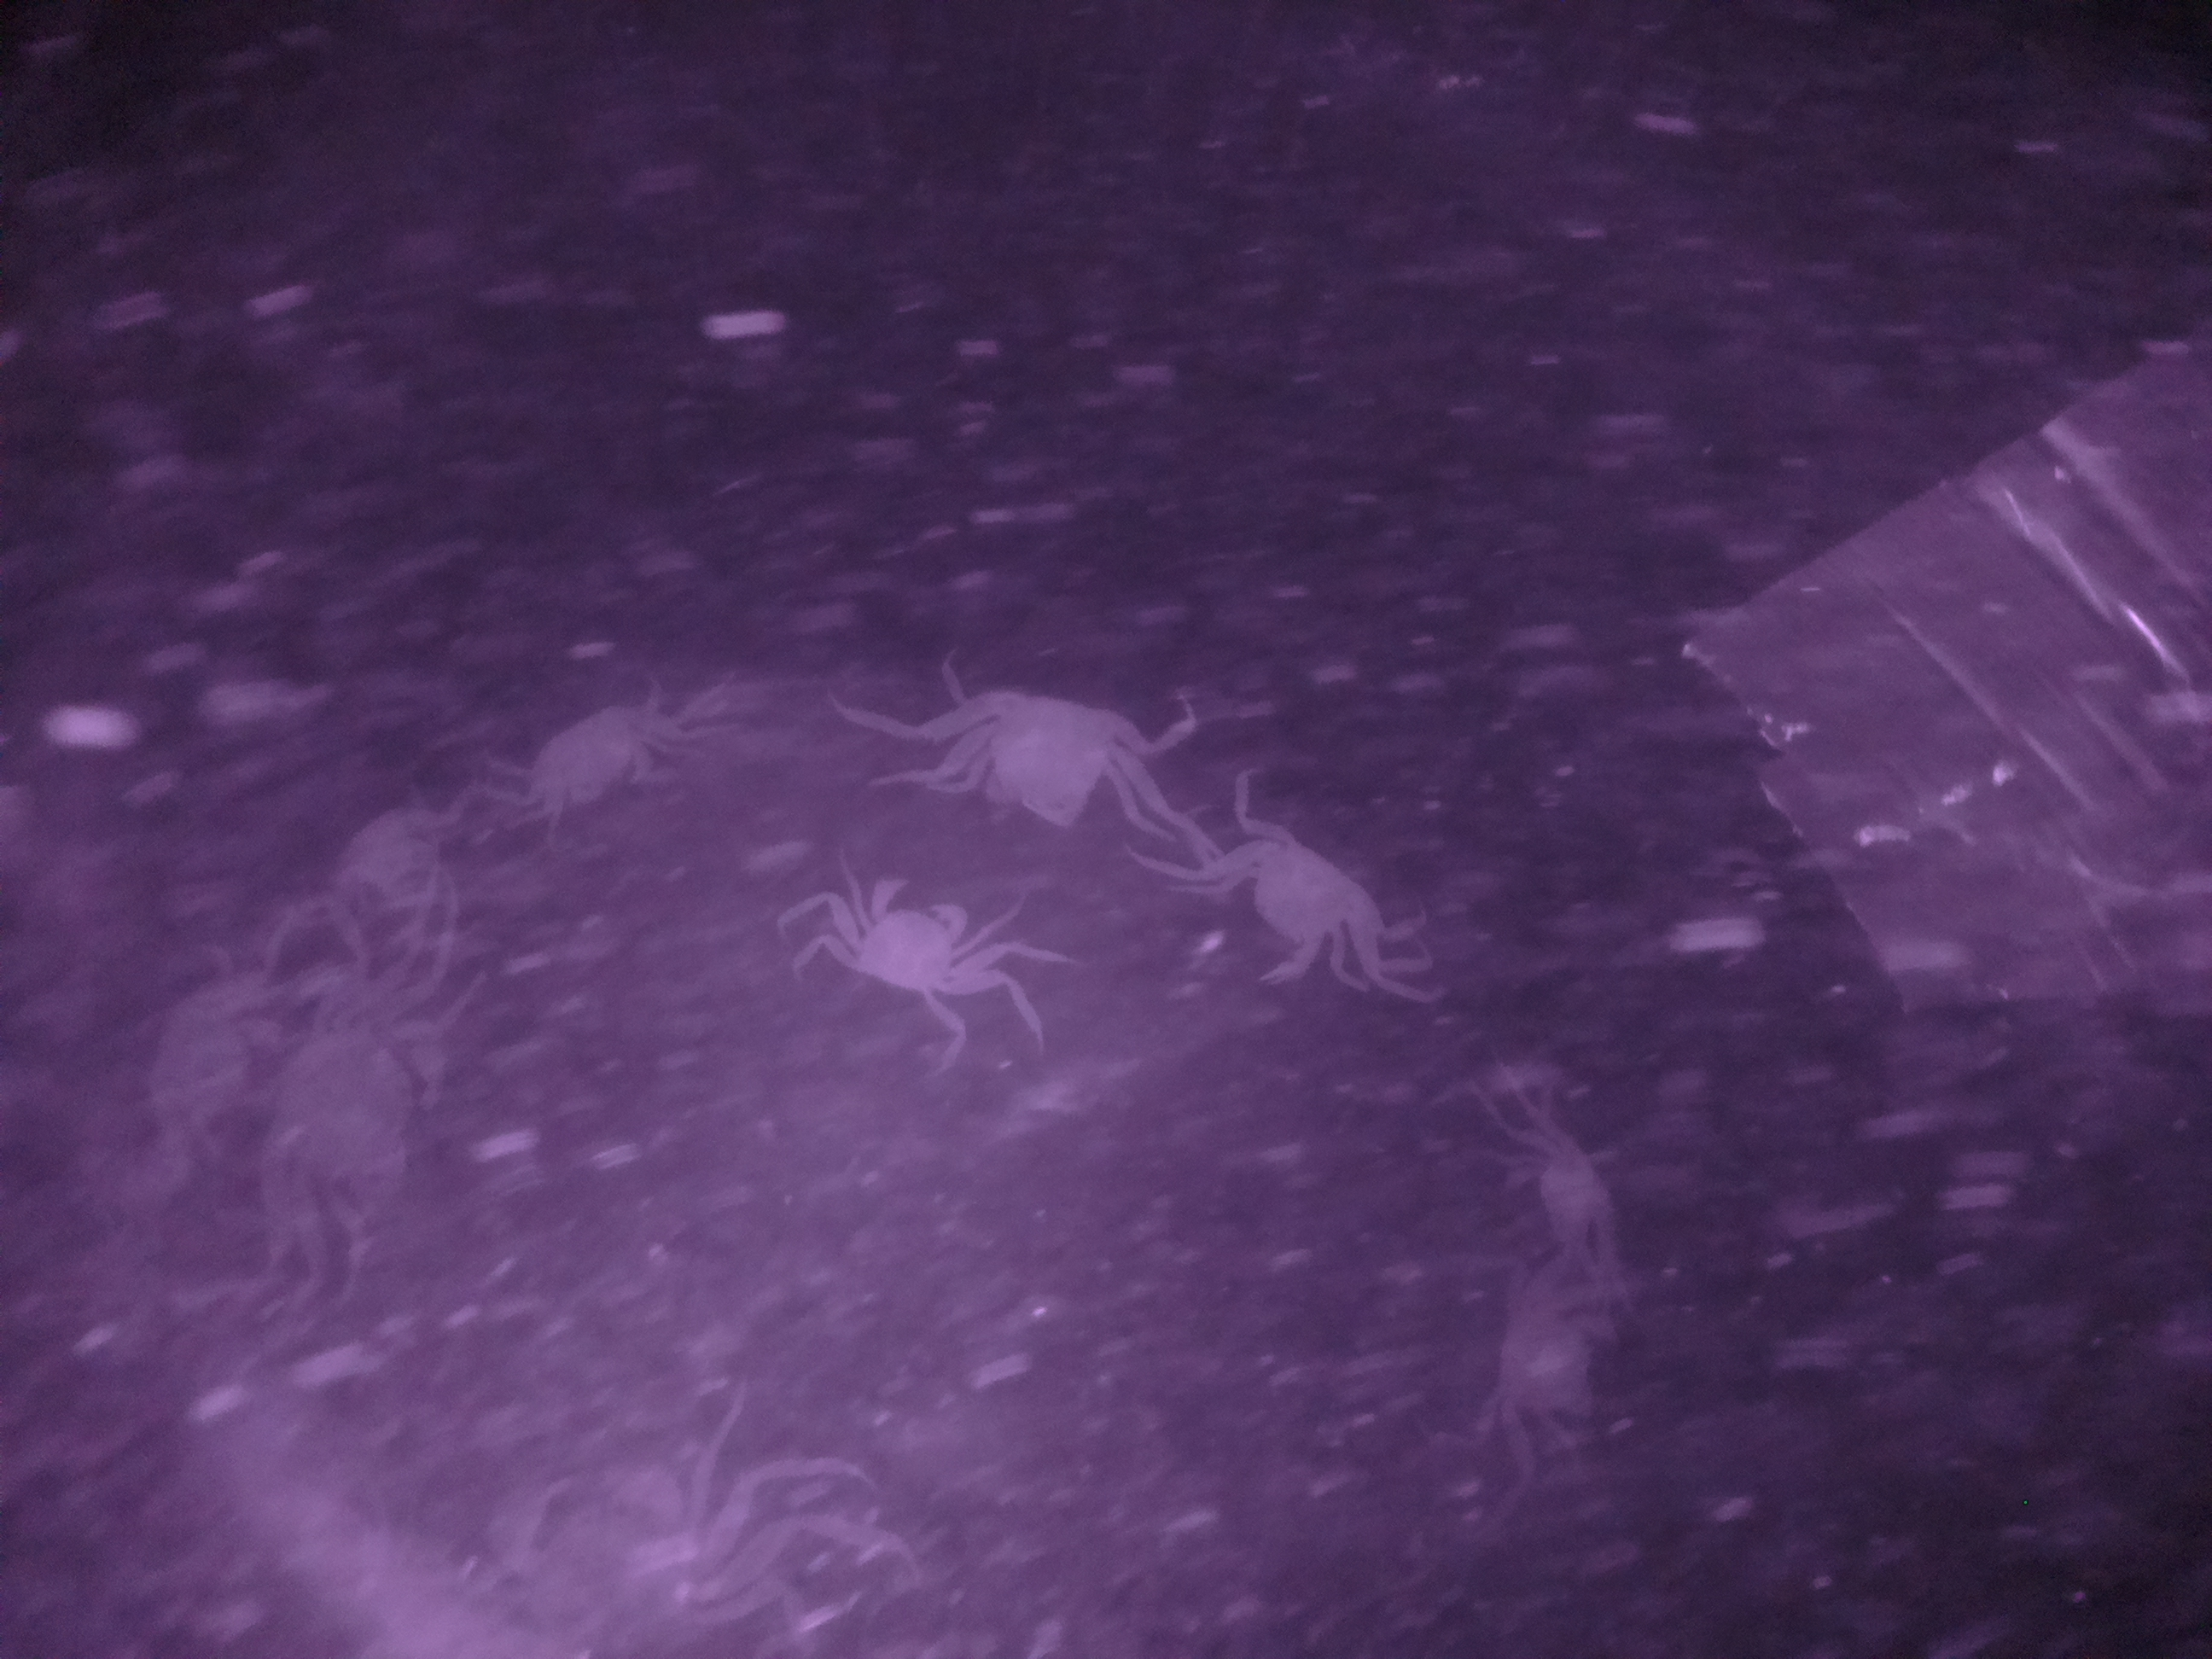Crab: (920, 674, 1165, 829), (1193, 817, 1416, 988), (801, 871, 981, 1033), (505, 695, 681, 826)
